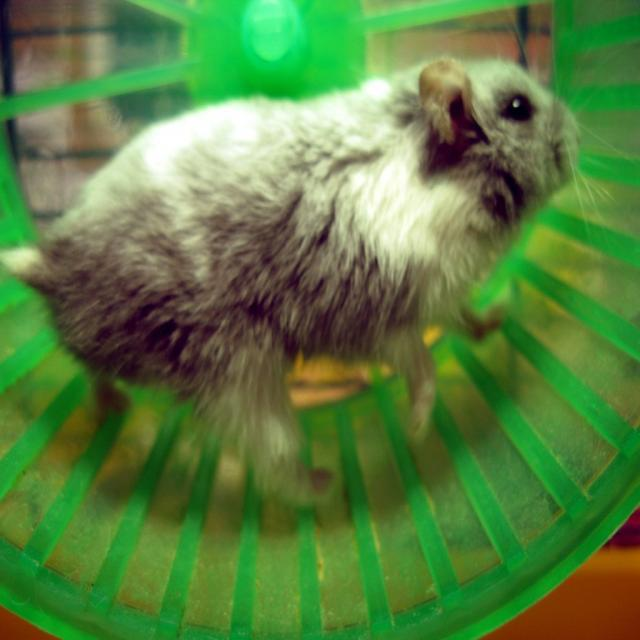rat: (4, 62, 628, 496)
